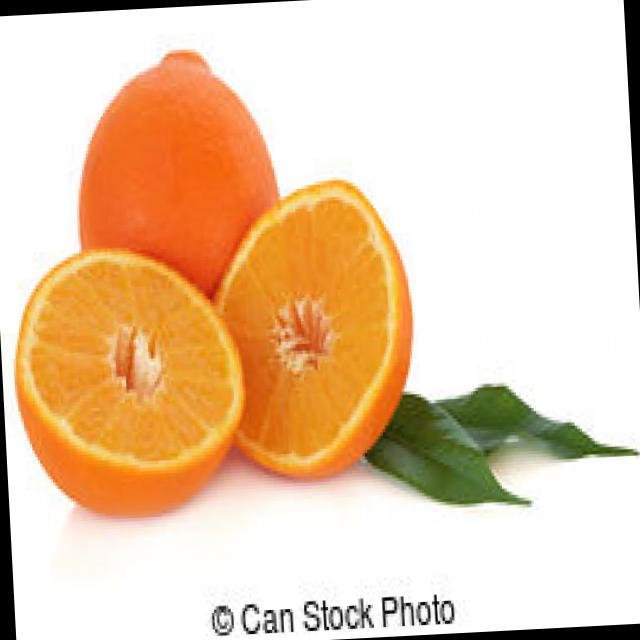orange: (50, 45, 298, 402)
